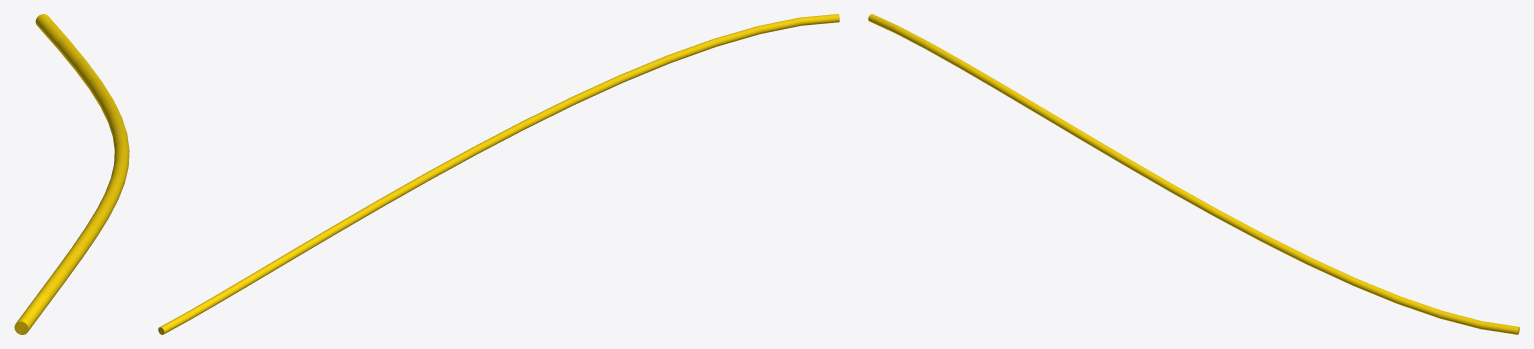
The model's file is Event_421278790_track_31.fbx.
3 views of the same model, side by side, from view 1: azimuth 90°, elevation 25°; view 2: azimuth 210°, elevation 25°; view 3: azimuth 330°, elevation 25° (orthographic). The views are drawn at different scales.
Visible parts, largest first — view 1: Model; view 2: Model; view 3: Model.
Part boxes in pixels (x1,y1,x2,y2): Model: [14, 14, 129, 334]; Model: [158, 14, 839, 334]; Model: [868, 14, 1519, 334].
Size of the model in its own units: 3.7 by 0.8451 by 0.3102.
